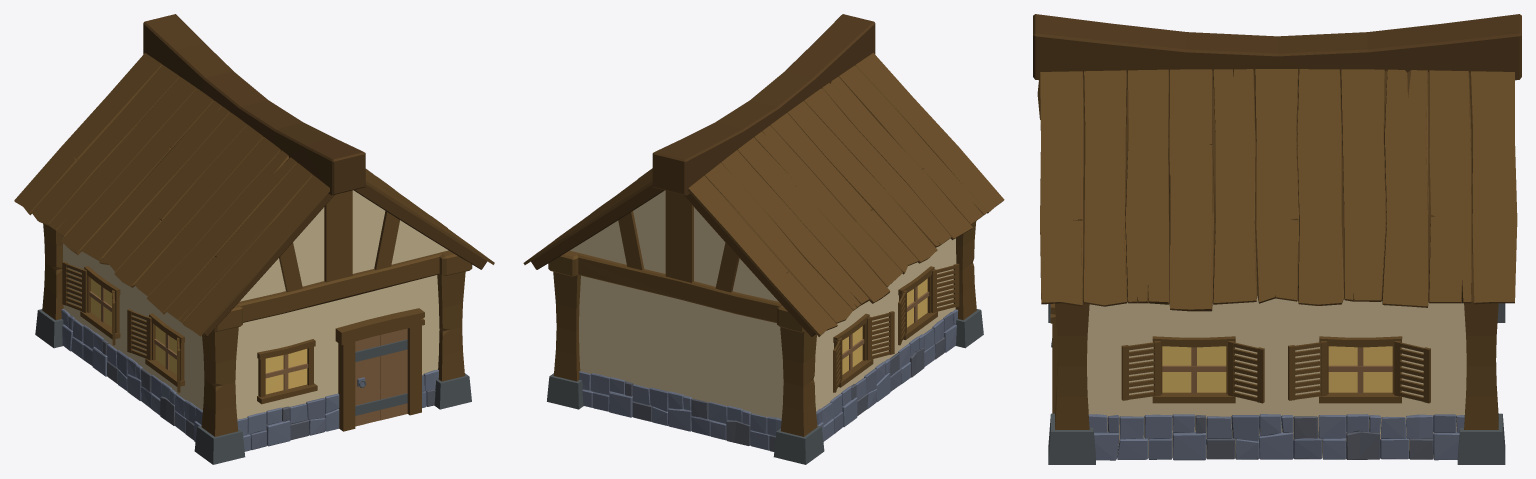
File: House_02.fbx
The picture shows the model from 3 angles, left to right: view 1: azimuth 30°, elevation 25°; view 2: azimuth 150°, elevation 25°; view 3: azimuth 270°, elevation 25°; orthographic projection. The views are drawn at different scales.
Parts seen in each view (by area): view 1: House_02; view 2: House_02; view 3: House_02.
Boxes of the visible parts, left/top/right/bottom form: House_02: left=14, top=14, right=494, bottom=464; House_02: left=523, top=14, right=1004, bottom=464; House_02: left=1033, top=14, right=1521, bottom=464.
Size of the model in its own units: 6.14 by 5.42 by 6.65.
